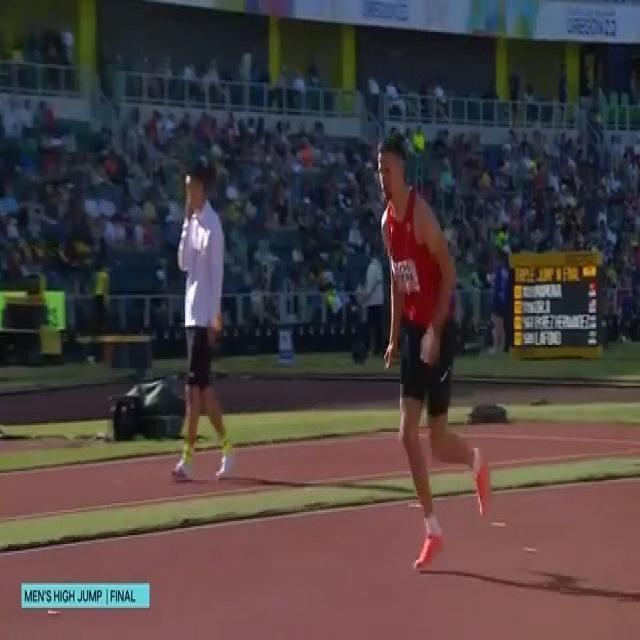run: (374, 136, 492, 581)
